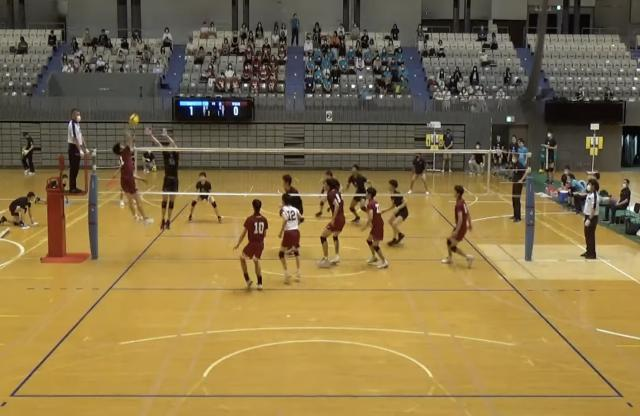spike: (110, 114, 159, 231)
